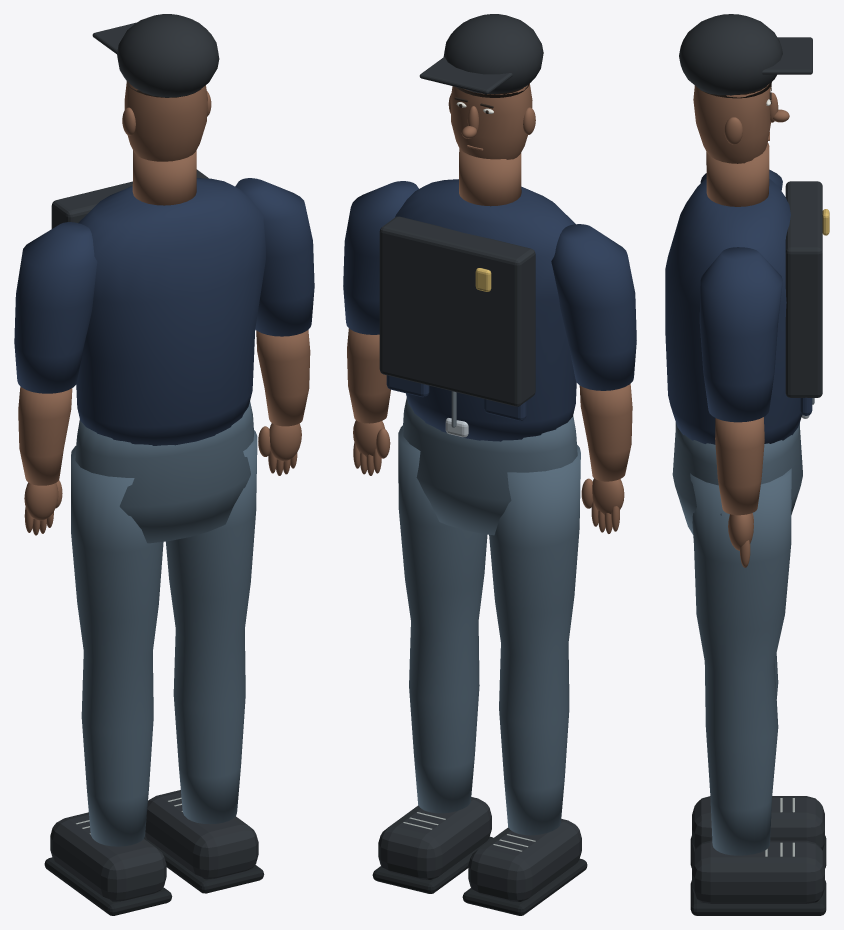
The model's file is Tactical.fbx.
The picture shows the model from 3 angles, left to right: view 1: azimuth 30°, elevation 25°; view 2: azimuth 150°, elevation 25°; view 3: azimuth 270°, elevation 25°; orthographic projection. The views are drawn at different scales.
Parts seen in each view (by area): view 1: Body.019, Leg_L.004, Leg_R.004, Arm_L.004, Arm_R.004, Head.004; view 2: Body.019, Leg_L.004, Leg_R.004, Arm_L.004, Head.004, Arm_R.004; view 3: Leg_R.004, Body.019, Arm_R.004, Head.004, Leg_L.004.
Part boxes in pixels (<box>): Body.019: <box>51,150,265,543</box>; Leg_L.004: <box>44,446,172,915</box>; Leg_R.004: <box>144,430,264,893</box>; Arm_L.004: <box>14,222,97,535</box>; Arm_R.004: <box>235,178,314,475</box>; Head.004: <box>92,14,219,161</box>; Body.019: <box>379,148,577,535</box>; Leg_L.004: <box>462,445,587,915</box>; Leg_R.004: <box>372,425,493,893</box>; Arm_L.004: <box>551,224,636,533</box>; Head.004: <box>419,14,543,159</box>; Arm_R.004: <box>343,181,418,475</box>; Leg_R.004: <box>690,468,826,915</box>; Body.019: <box>665,143,829,534</box>; Arm_R.004: <box>699,247,782,567</box>; Head.004: <box>679,14,812,163</box>; Leg_L.004: <box>690,653,826,868</box>.
Size of the model in its own units: 0.644 by 1.83 by 0.317.
